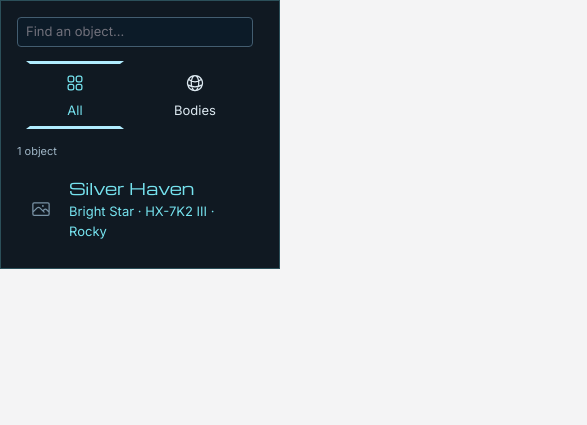
it: finds a renamed body by catalogue reference while selection retains its identity
Step 1. Type "HX-7K2 III" into the search field with test id "system-index-search" → (135, 32), box [17,17,253,47]
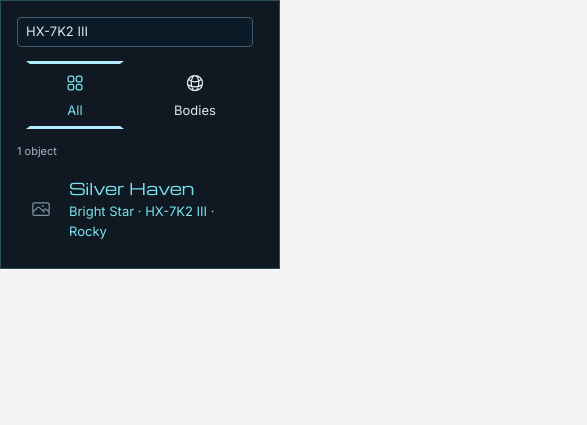
Step 2. Click the button with test id "index-feat-body-0" → click(128, 209), box [17,172,238,245]
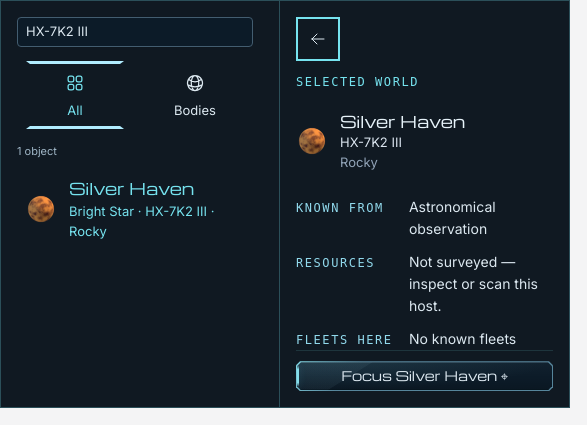
Now the heading "Silver Haven" is shown, box [340,109,465,133]
